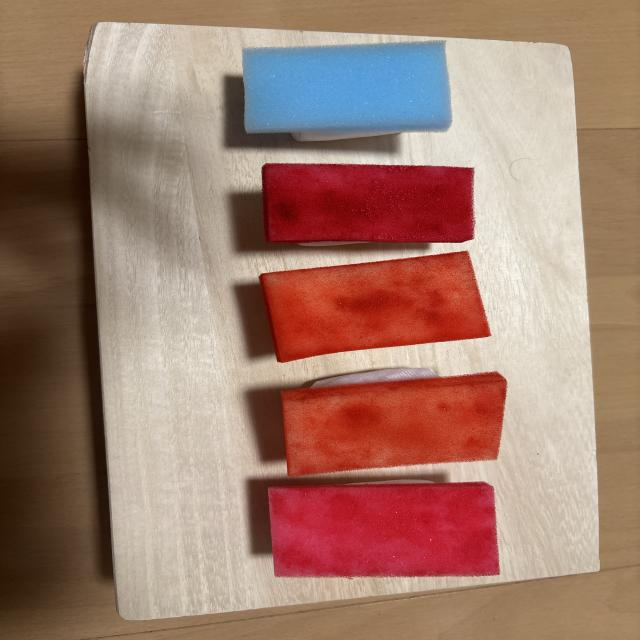ika: (243, 41, 451, 141)
maguro: (269, 480, 499, 577), (262, 163, 474, 246)
salmon: (259, 251, 490, 362), (282, 368, 507, 476)
